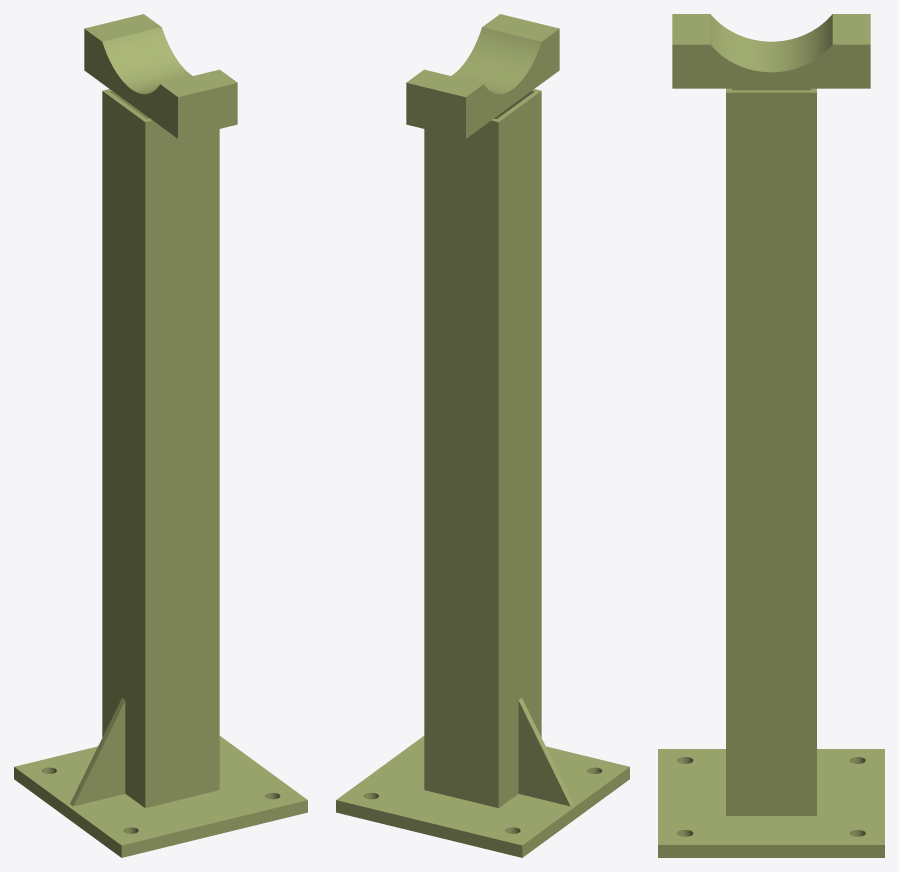
The model's file is step_64.glb.
The picture shows the model from 3 angles, left to right: view 1: azimuth 30°, elevation 25°; view 2: azimuth 150°, elevation 25°; view 3: azimuth 270°, elevation 25°; orthographic projection. The views are drawn at different scales.
Parts seen in each view (by area): view 1: part__pipe support SP-101, tall; view 2: part__pipe support SP-101, tall; view 3: part__pipe support SP-101, tall.
Part boxes in pixels (x1,y1,x2,y2): part__pipe support SP-101, tall: (14,14,307,857); part__pipe support SP-101, tall: (336,14,629,857); part__pipe support SP-101, tall: (658,14,884,857).
Bounding box in the file's own units: 250 × 950 × 250.
